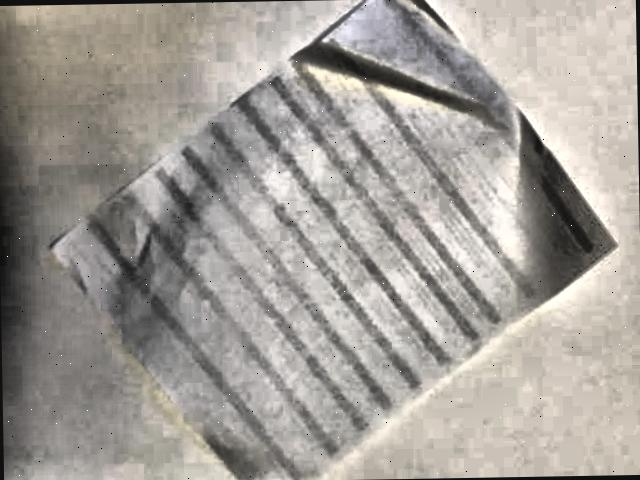Paper: (1, 0, 632, 480)
